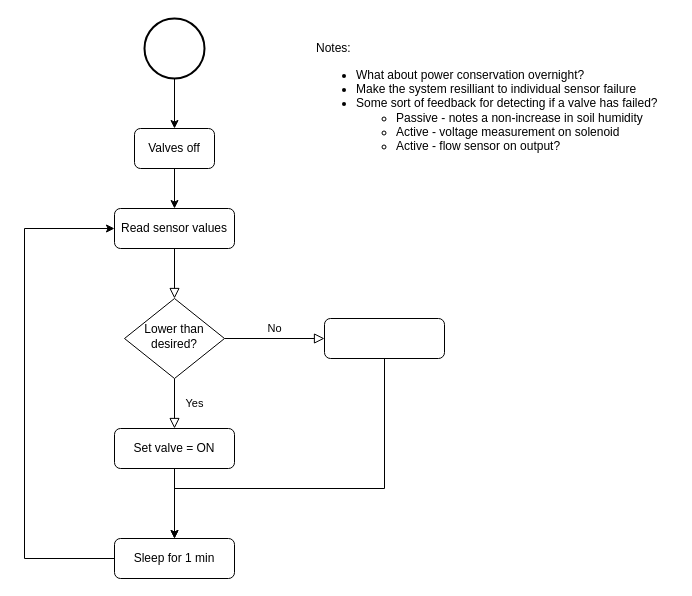
Some shapes in this 692 by 596 pixel diagram are drawn without their labels. The centre of each missing label's shape, as x and y in pixels:
Set valve = OFF: (384,338)
Start: (174,48)
